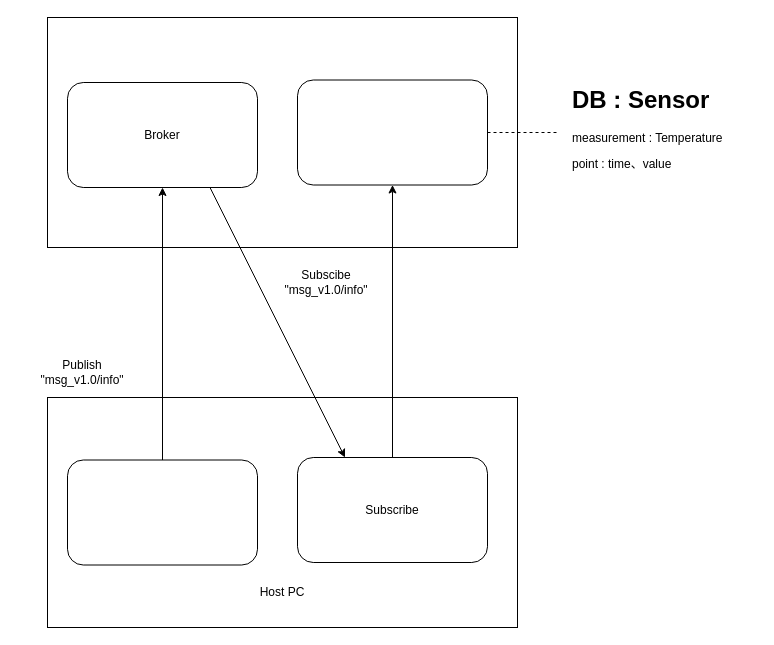
Some shapes in this 774 by 645 pixel diagram are drawn without their labels. The centre of each missing label's shape, as x and y in pixels:
"InfluxDB" goes at [392,132].
"Publish" goes at [162,512].
